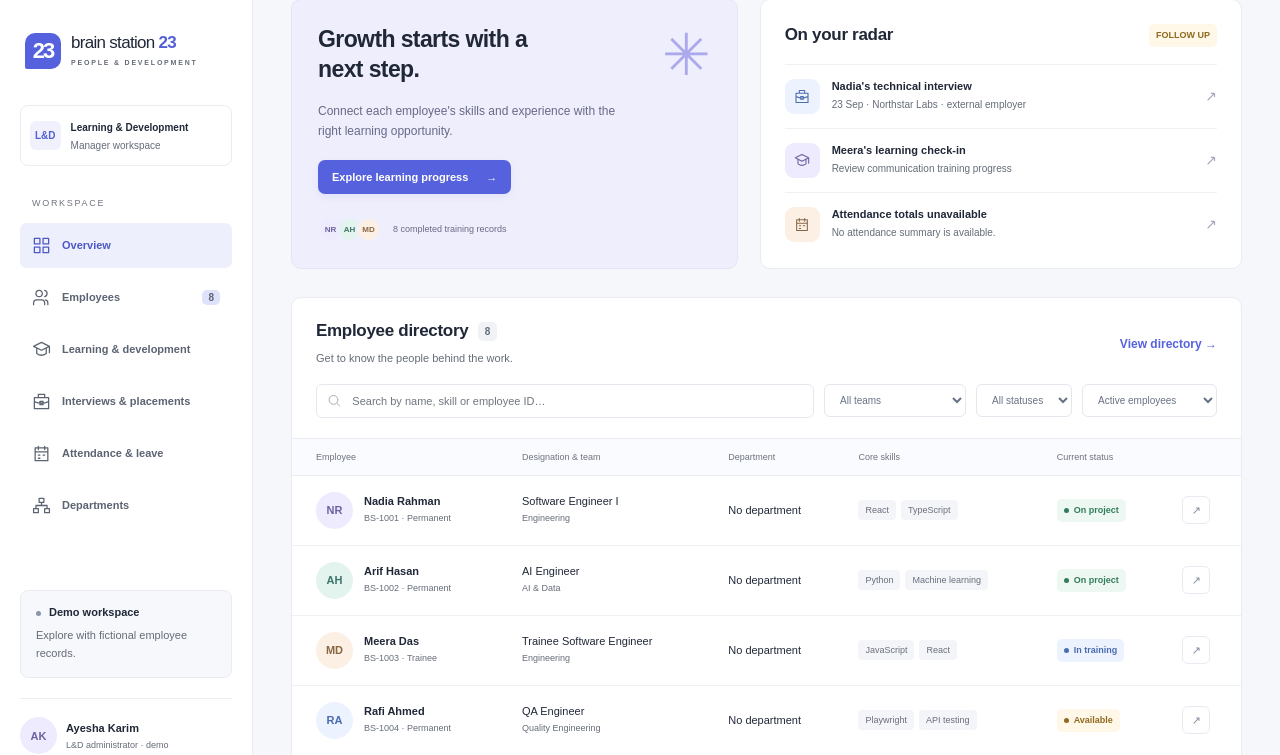
it: Portal directory › shows an empty state when no employee matches the filters
(page scrolled)
In the field named "Search employees": (576, 401) x1=350 y1=394 x2=802 y2=408, type "no such employee"
(page scrolled)
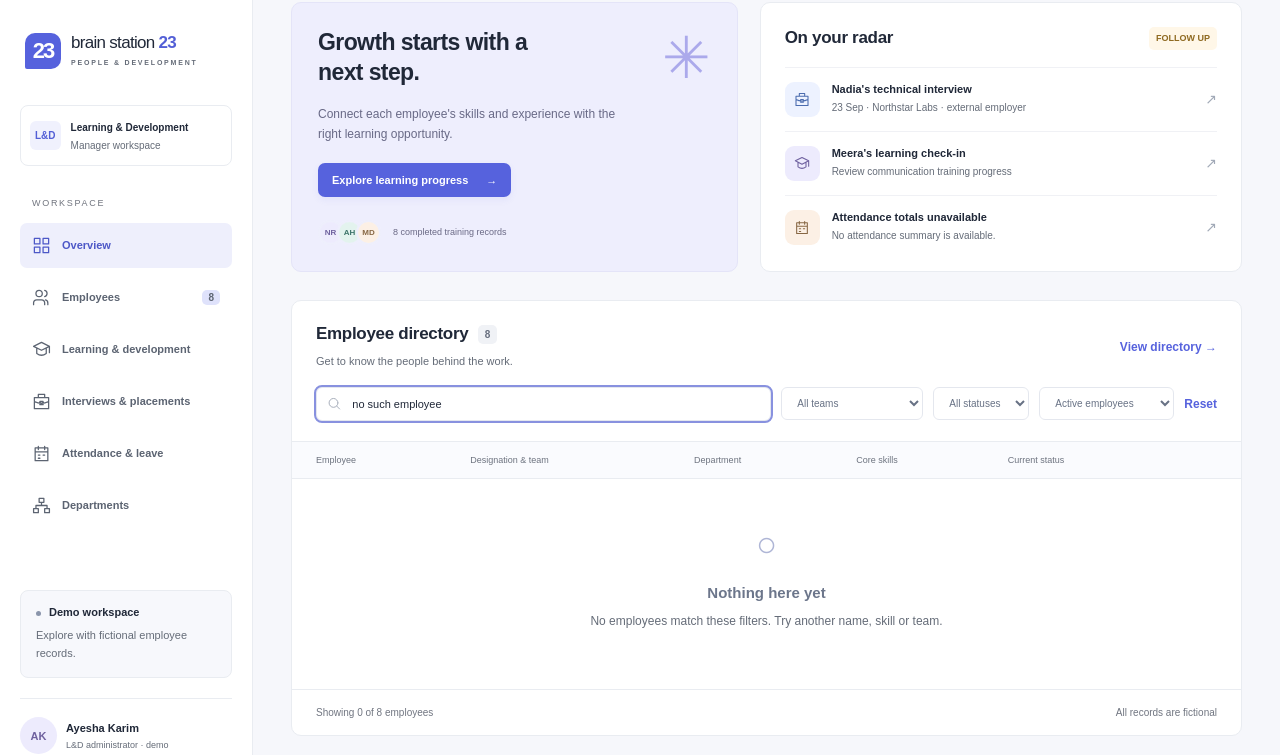
Expected: the heading "Nothing here yet" is shown, x1=707 y1=584 x2=826 y2=601
